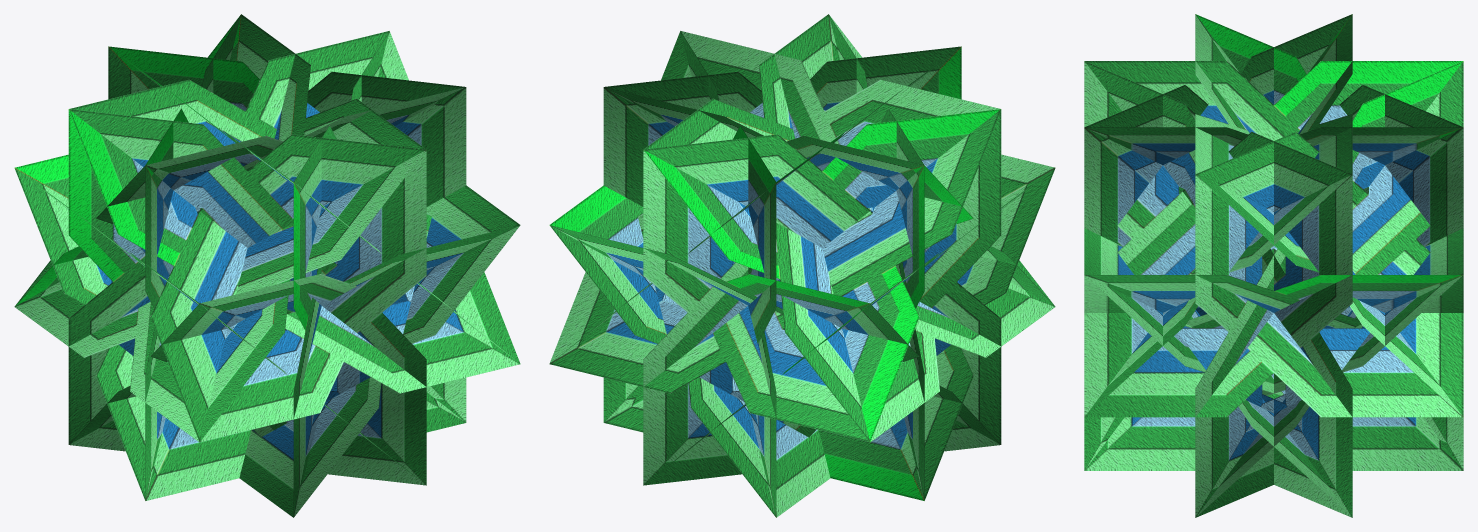
Rendered from 26GreatRhombihexahedron.gltf.
The picture shows the model from 3 angles, left to right: view 1: azimuth 30°, elevation 25°; view 2: azimuth 150°, elevation 25°; view 3: azimuth 270°, elevation 25°; orthographic projection. The views are drawn at different scales.
Parts seen in each view (by area): view 1: 1GreatRhombihexahedron; view 2: 1GreatRhombihexahedron; view 3: 1GreatRhombihexahedron.
Part boxes in pixels (<box>): 1GreatRhombihexahedron: <box>14,14,520,517</box>; 1GreatRhombihexahedron: <box>549,14,1055,517</box>; 1GreatRhombihexahedron: <box>1084,14,1463,517</box>.
Size of the model in its own units: 1 by 1 by 1.
1 material, 1 textured.
